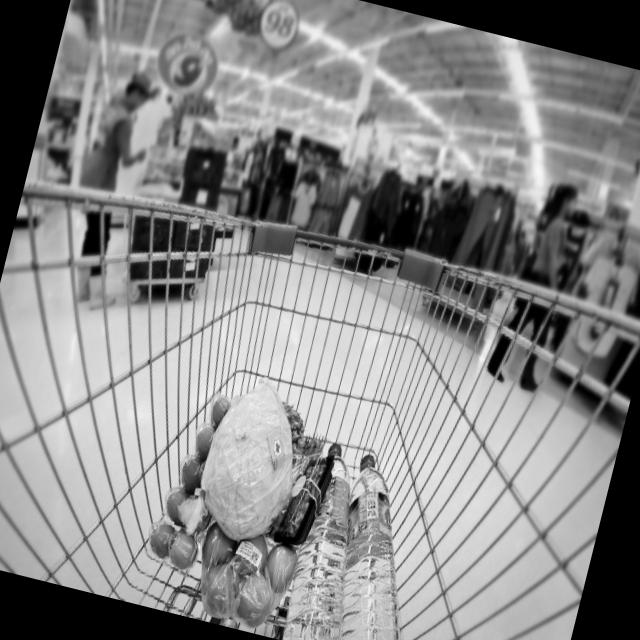apple: (180, 515, 306, 638)
bap cai: (188, 378, 319, 558)
egg: (142, 383, 245, 582)
